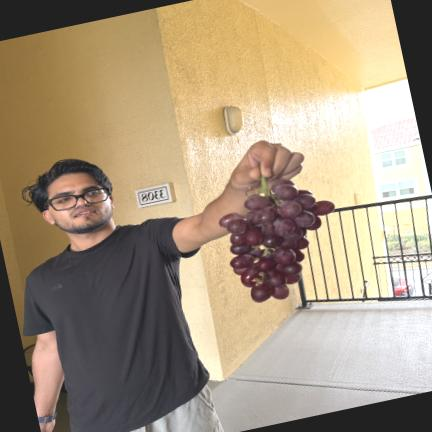grape_cluster: (220, 177, 335, 302)
